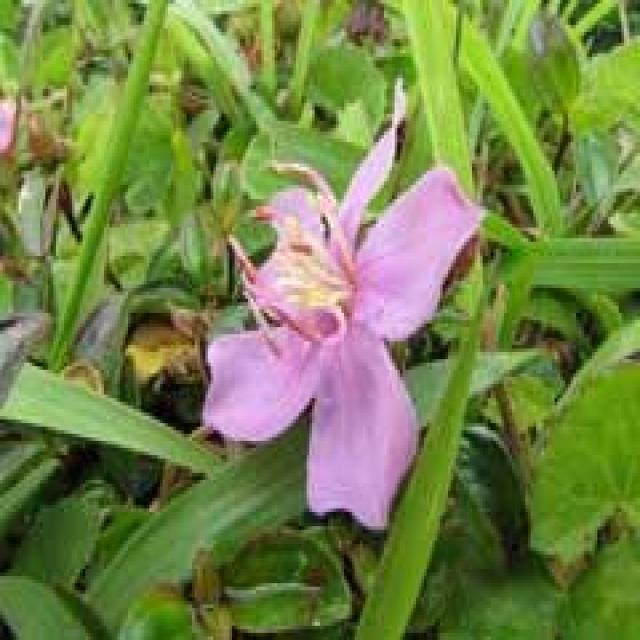organic waste: (207, 94, 465, 524)
